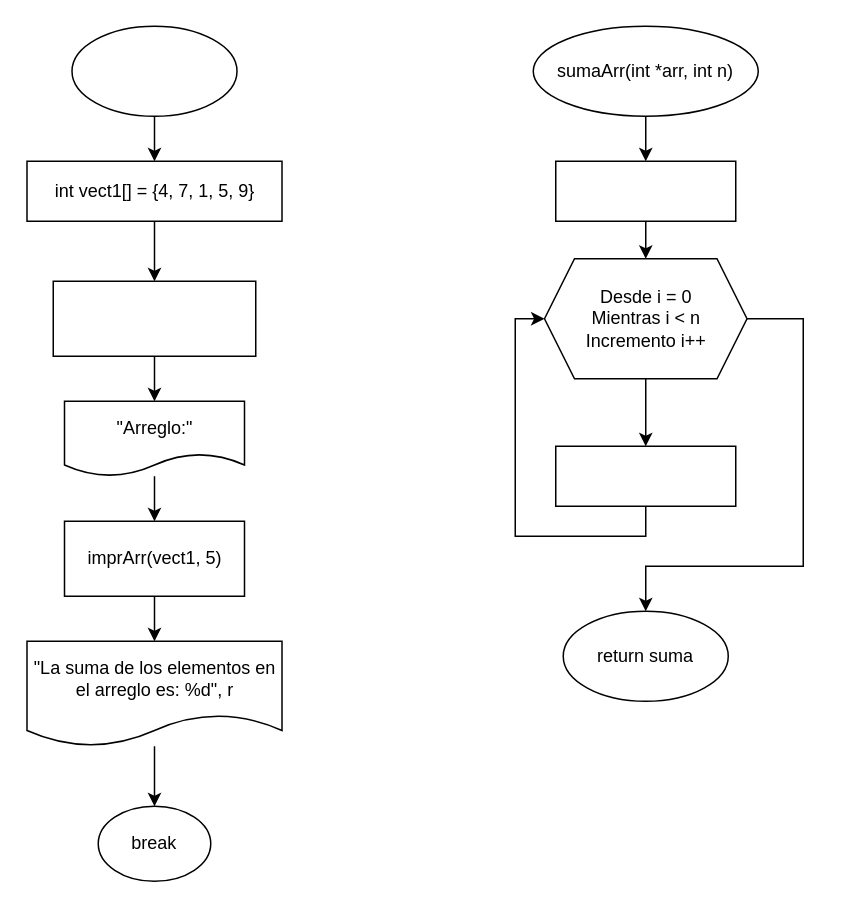
Some shapes in this 842 by 908 pixel diagram are drawn without their labels. The shapes that lost their labels are listed below. From the top down, each one's centre as x and y in pixels, then its label:
At (153,70): "Case 1:".
At (645,190): "int i, suma = 0".
At (154,318): "r = sumaArr(vect1, 5)".
At (645,475): "suma += *(arr + i);".
